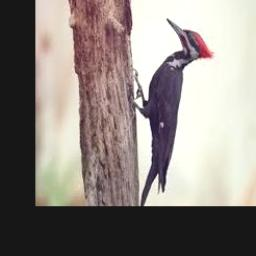Woodpecker: (132, 17, 213, 206)
